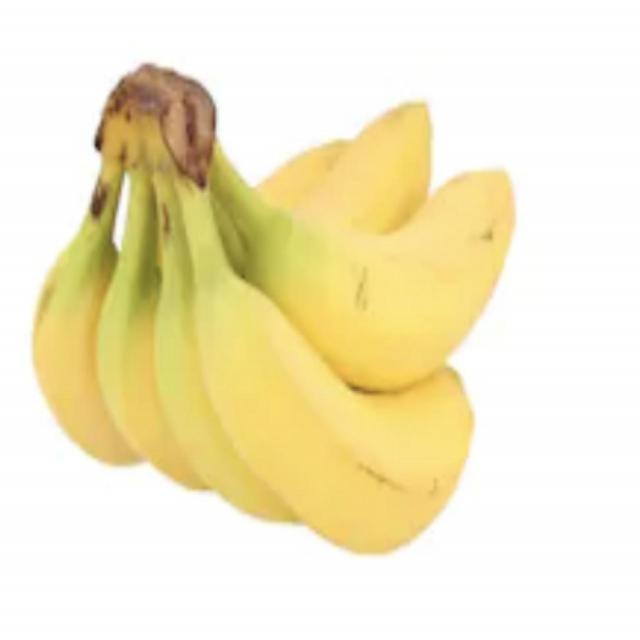banana: (162, 158, 568, 594), (256, 72, 584, 388)
